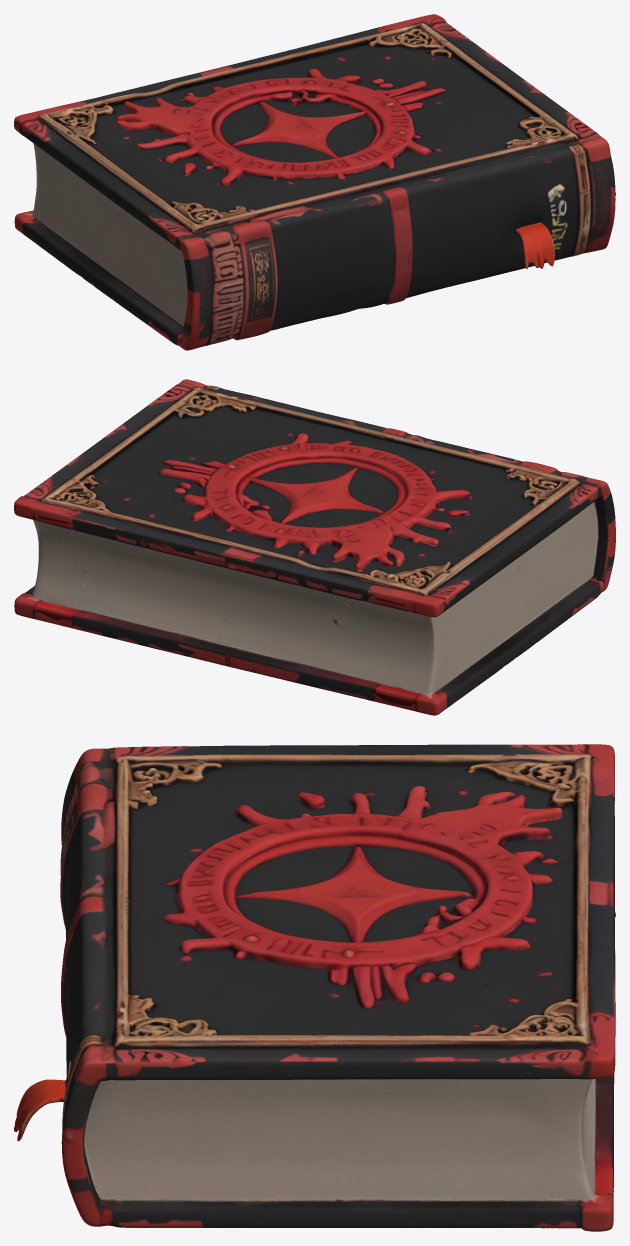
File: tripo_convert_569cf0e5-94ae-4a4a-b898-c17f96c741f4.fbx
3 views of the same model, one above another, from view 1: azimuth 30°, elevation 25°; view 2: azimuth 150°, elevation 25°; view 3: azimuth 270°, elevation 25° (orthographic). The views are drawn at different scales.
Parts seen in each view (by area): view 1: tripo_node_569cf0e5; view 2: tripo_node_569cf0e5; view 3: tripo_node_569cf0e5.
Part boxes in pixels (x1,y1,x2,y2): tripo_node_569cf0e5: [14, 14, 615, 350]; tripo_node_569cf0e5: [14, 379, 615, 715]; tripo_node_569cf0e5: [14, 744, 615, 1231].
Bounding box in the file's own units: 100 × 27.19 × 80.02.
Materials: 1 (1 with a texture image).
